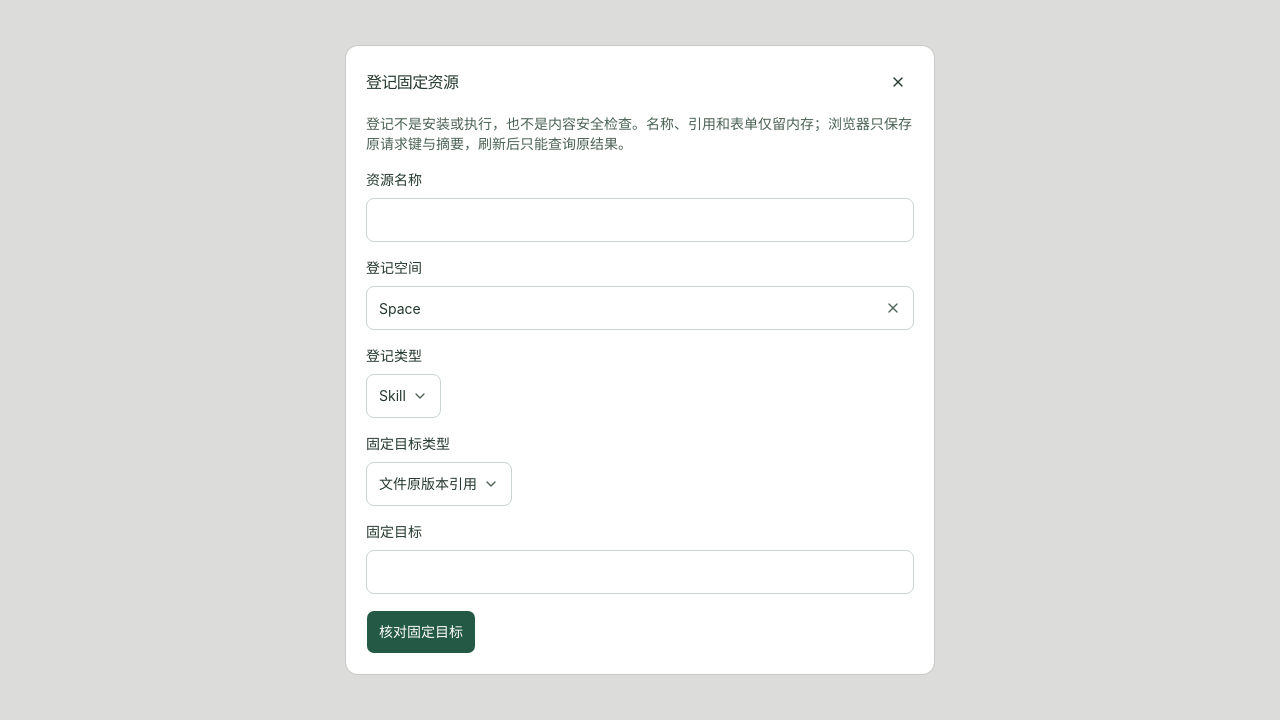
Scenario: clears unsent resource fields and protection after offline
The width and height of the screenshot is (1280, 720).
Click the dropdown named "登记类型": x=403, y=396 [366, 374, 441, 418]
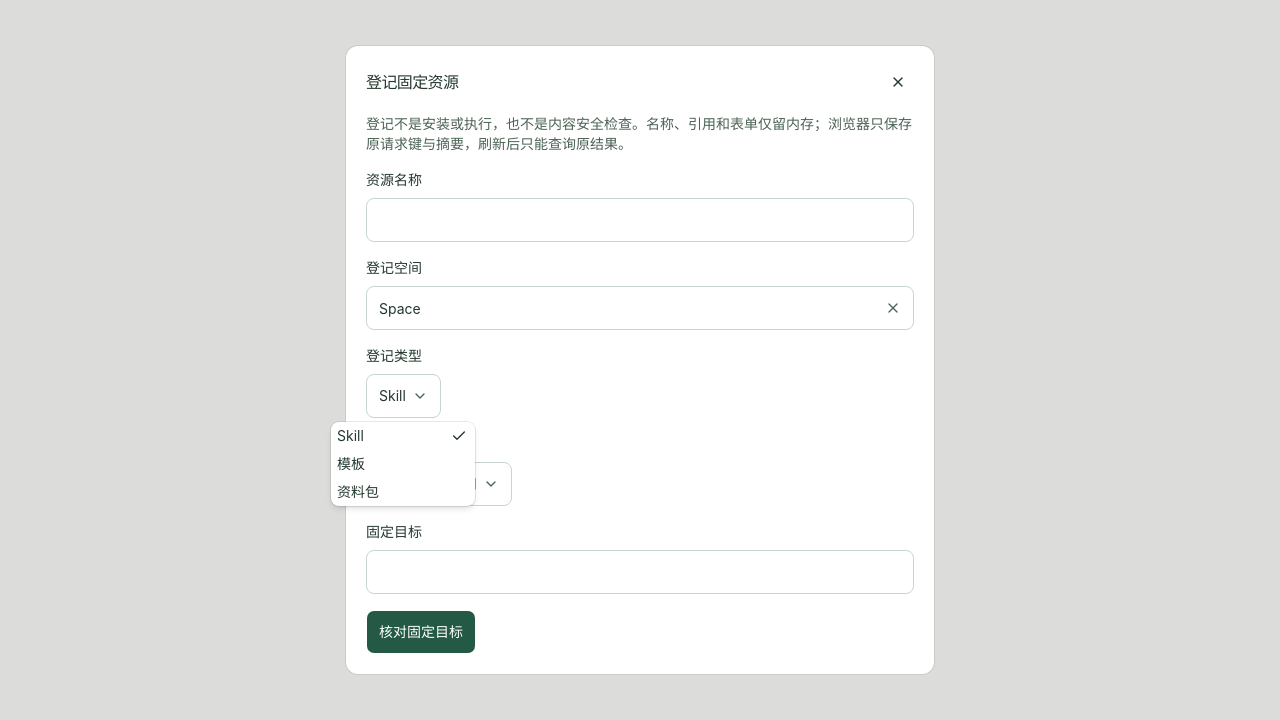
Click the option "资料包": x=358, y=492 [337, 483, 379, 500]
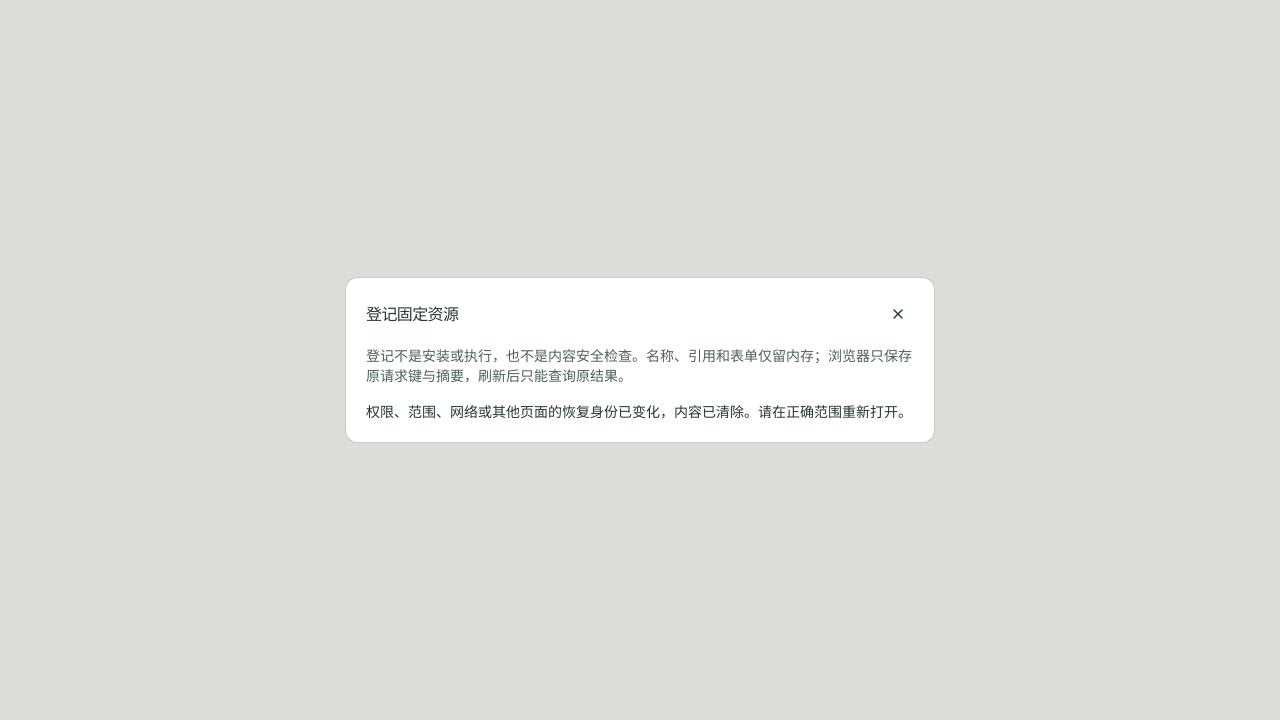
expect the text "权限、范围、网络或其他页面的恢复身份已变化，内容已清除。请在正确范围重新打开。" is shown: met, box [366, 402, 914, 422]
